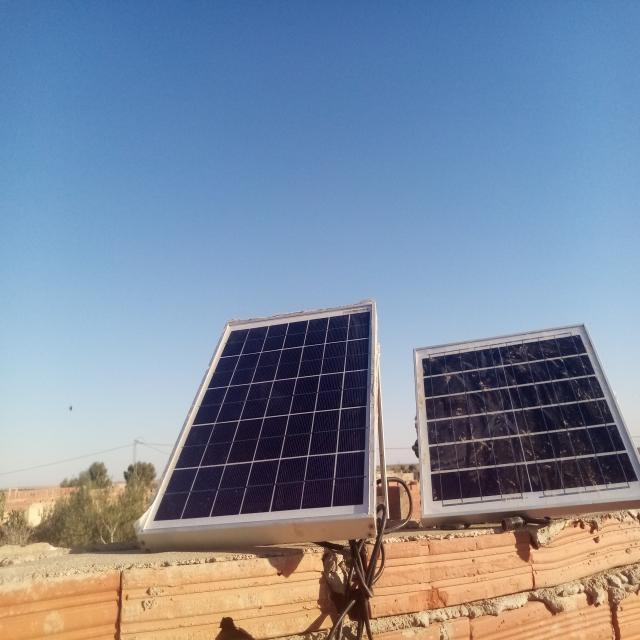faulty: (413, 324, 640, 518)
no faulty: (143, 304, 375, 525)
